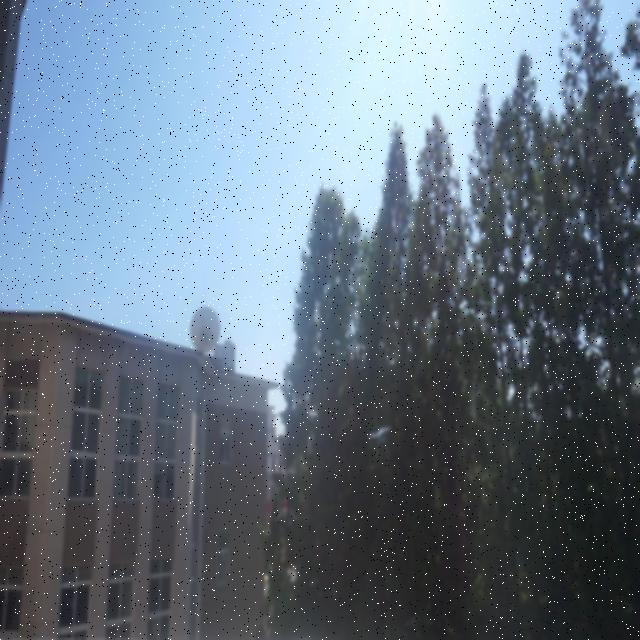UAV: (368, 426, 391, 445)
